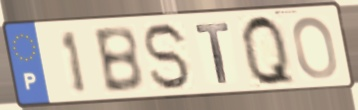1: (59, 27, 88, 97)
B: (90, 24, 147, 95)
O: (290, 14, 340, 82)
Q: (239, 12, 299, 89)
S: (142, 21, 194, 94)
T: (193, 20, 232, 86)
